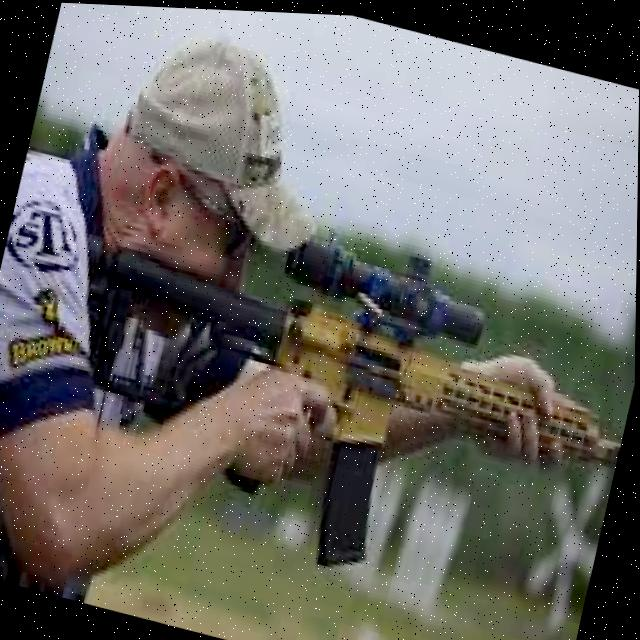firearm: (50, 173, 638, 623)
